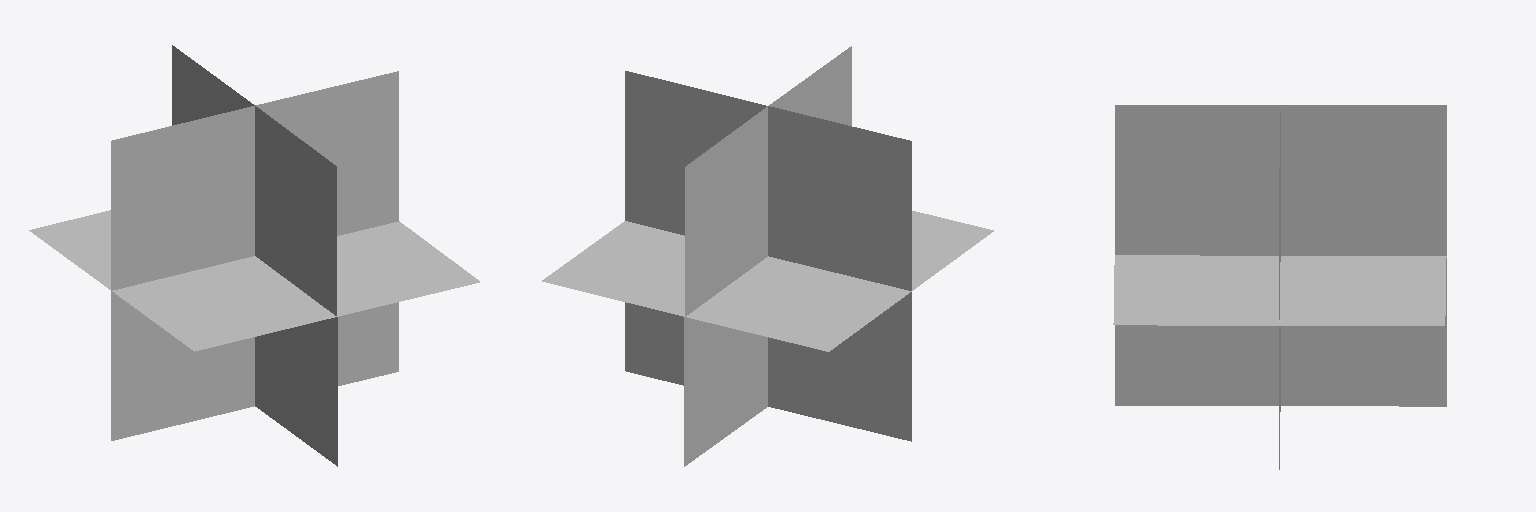
3 views of the same model, side by side, from view 1: azimuth 30°, elevation 25°; view 2: azimuth 150°, elevation 25°; view 3: azimuth 270°, elevation 25° (orthographic).
Parts seen in each view (by area): view 1: 1010_0101_立方体.134; view 2: 1010_0101_立方体.134; view 3: 1010_0101_立方体.134.
Part boxes in pixels (x1,y1,x2,y2): 1010_0101_立方体.134: (29, 45, 479, 466); 1010_0101_立方体.134: (542, 46, 993, 466); 1010_0101_立方体.134: (1113, 105, 1446, 469).
Size of the model in its own units: 1 by 1 by 1.